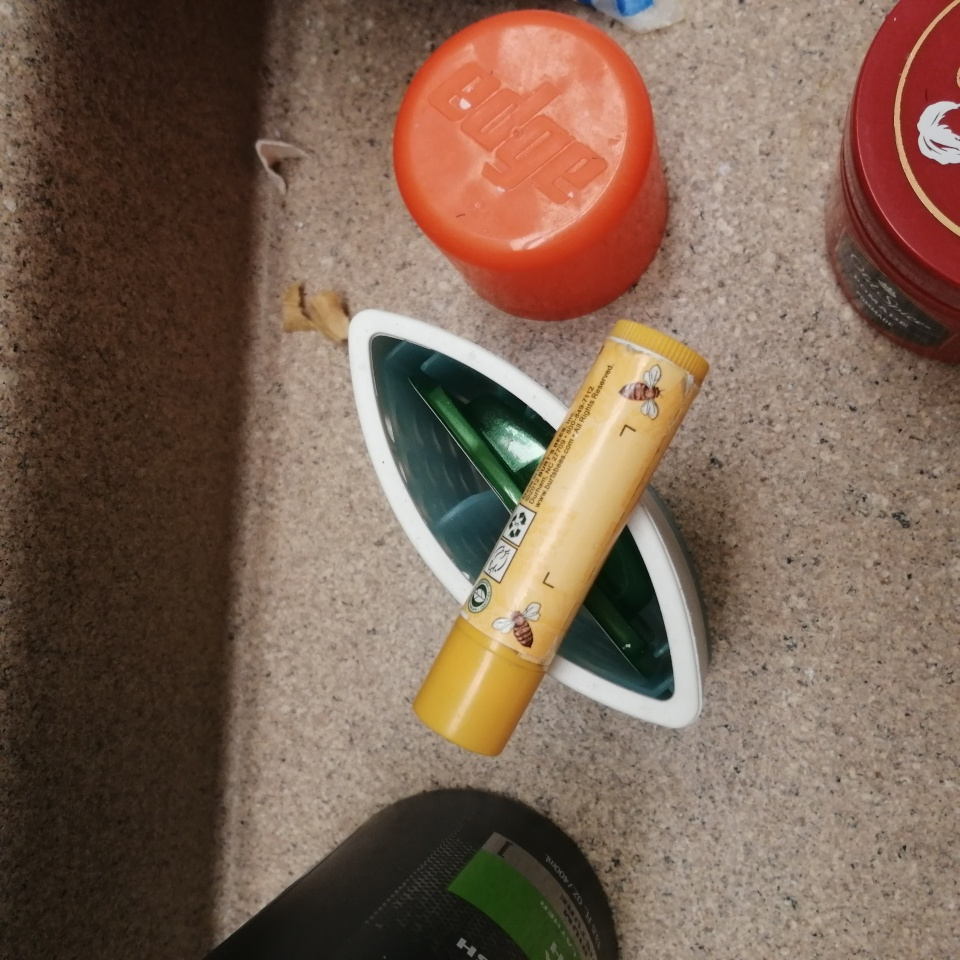chapstick: (413, 319, 711, 757)
